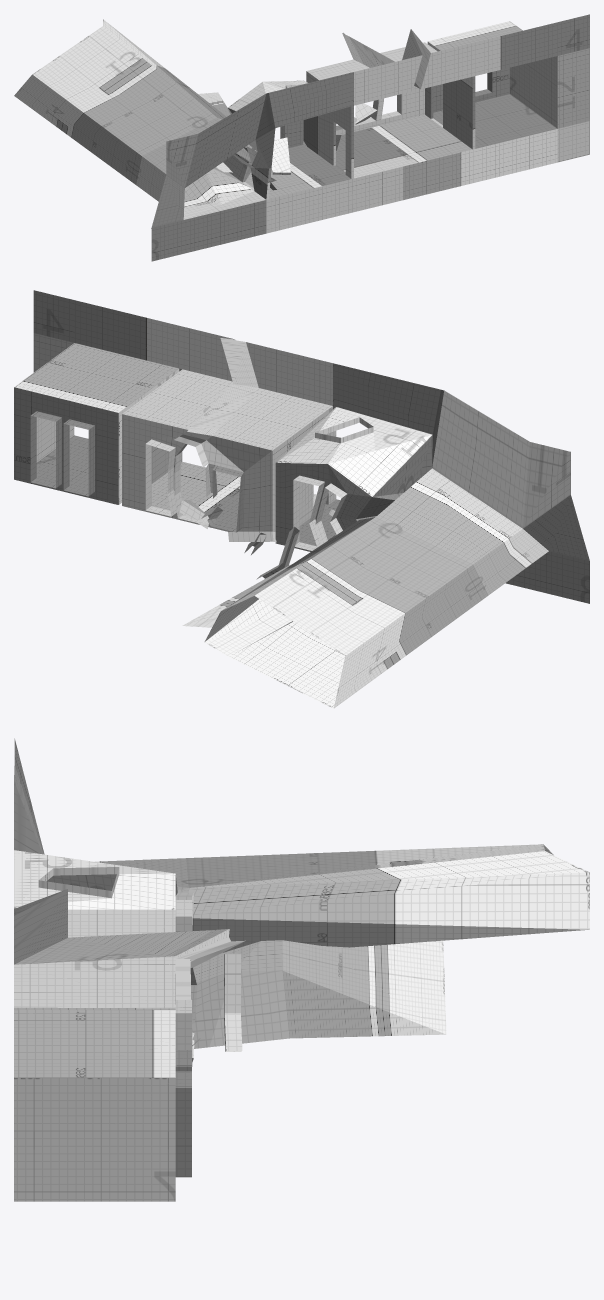
File: MortaredOffice1.fbx
3 renders of one model, top to bottom at view 1: azimuth 30°, elevation 25°; view 2: azimuth 150°, elevation 25°; view 3: azimuth 270°, elevation 25°, orthographic. The views are drawn at different scales.
Visible parts, largest first — view 1: MortaredOffice; view 2: MortaredOffice; view 3: MortaredOffice.
Part boxes in pixels (bbox=[...]): MortaredOffice: bbox=[14, 14, 589, 261]; MortaredOffice: bbox=[14, 290, 589, 708]; MortaredOffice: bbox=[14, 738, 589, 1201].
Size of the model in its own units: 27.21 by 9.14 by 18.24.
